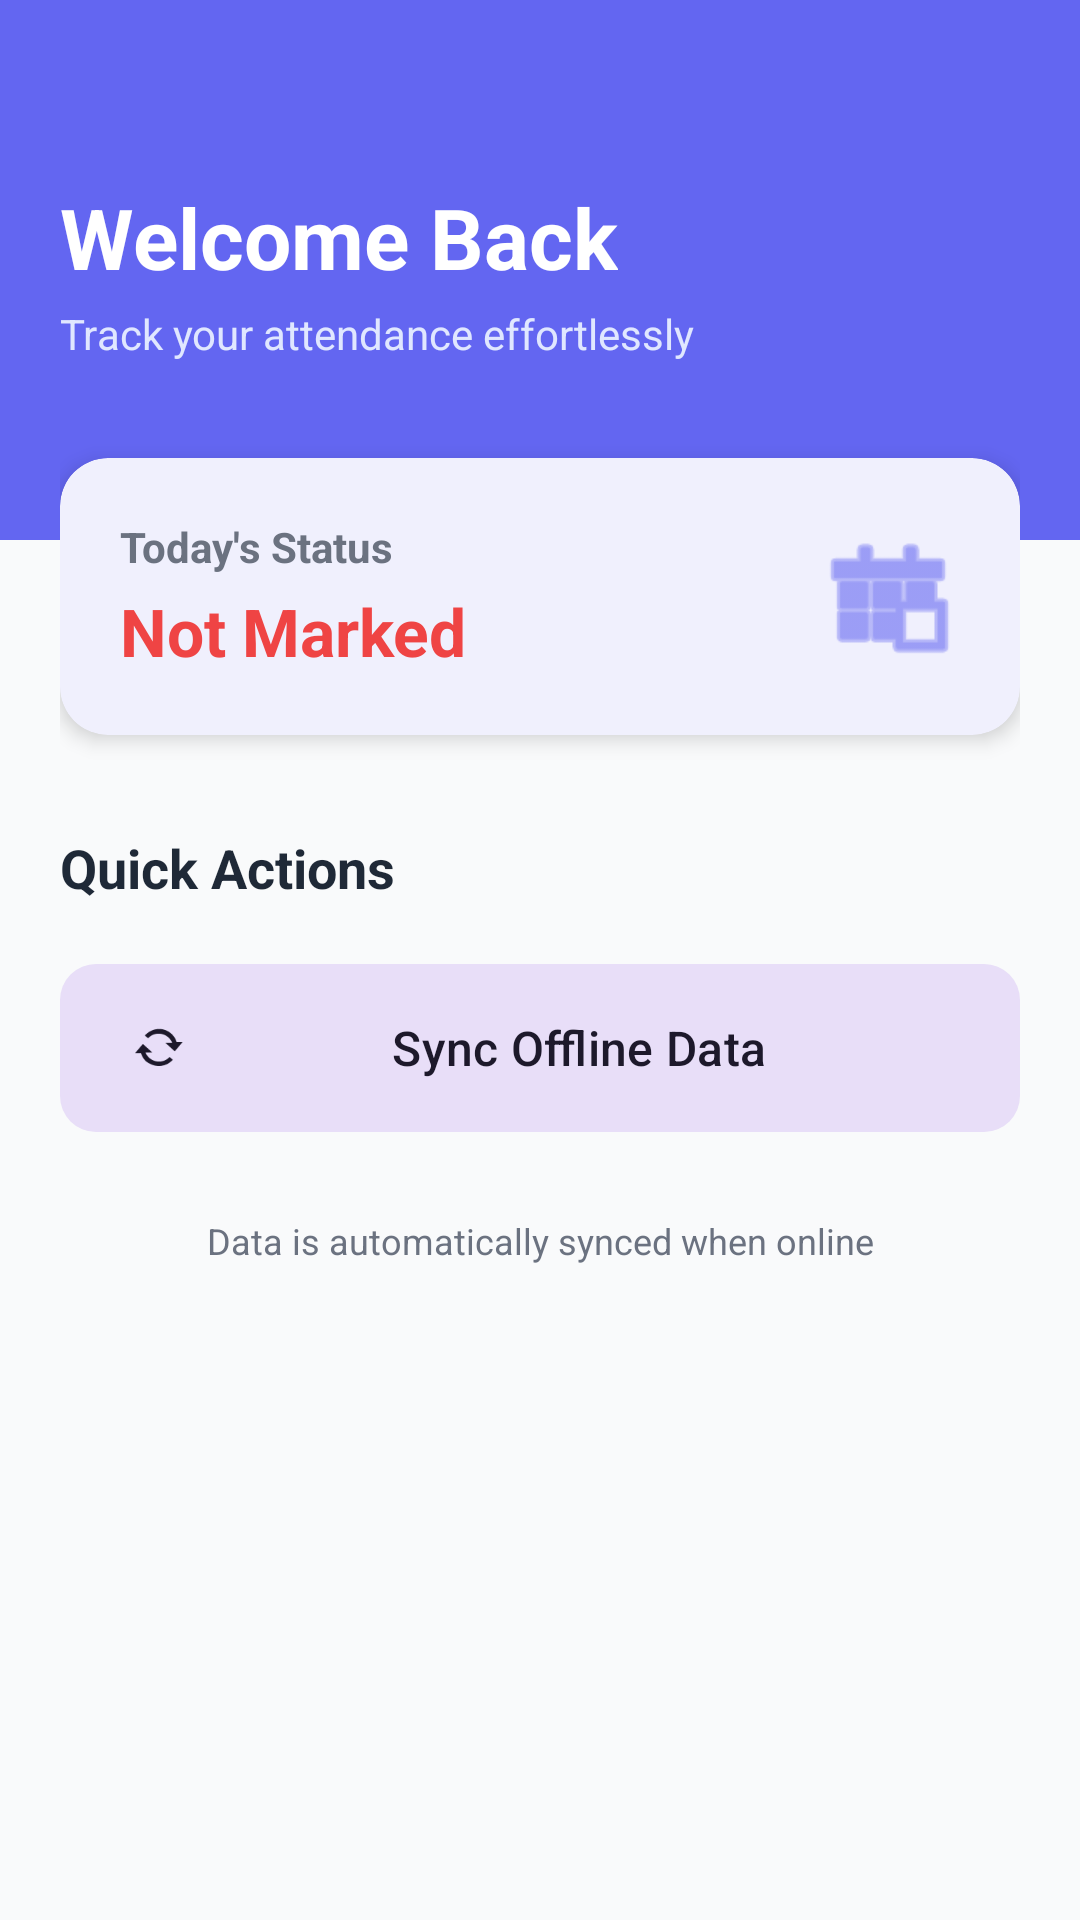

Named icons in this screenshot (1080px×1920px) and their centers, point (x, y):
today: point (889, 598)
